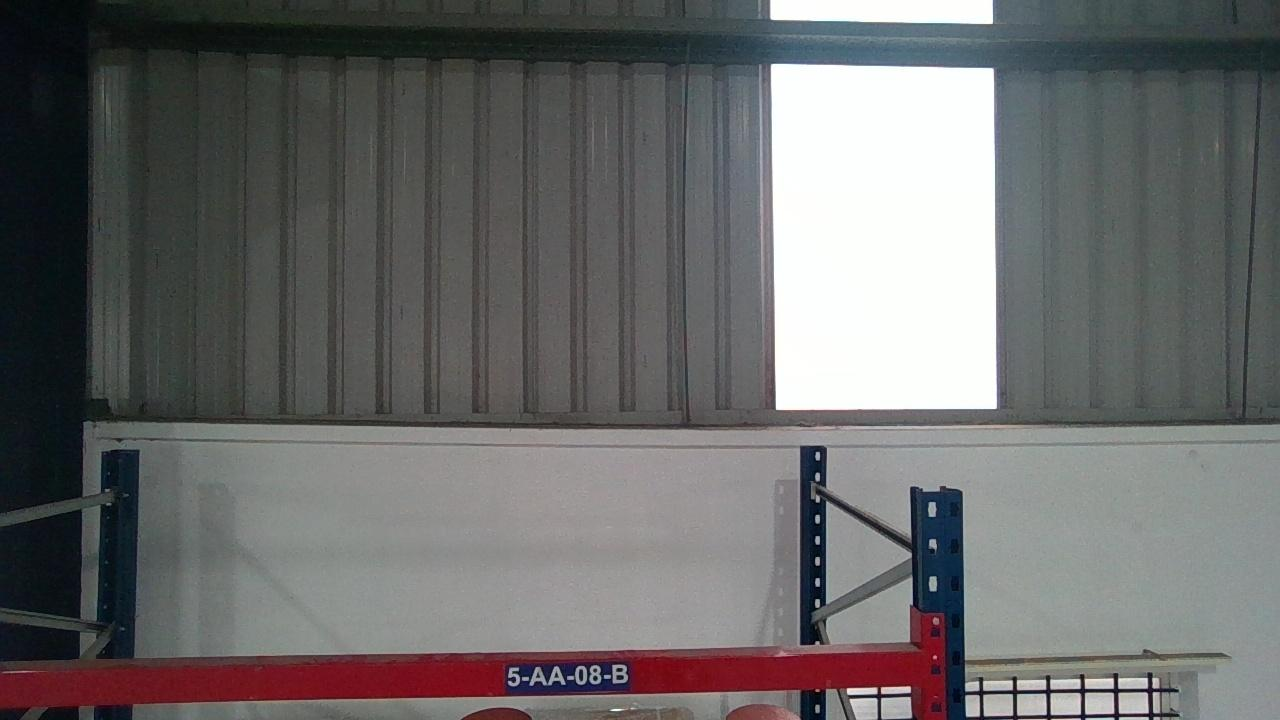h_rack: (1, 653, 927, 703)
